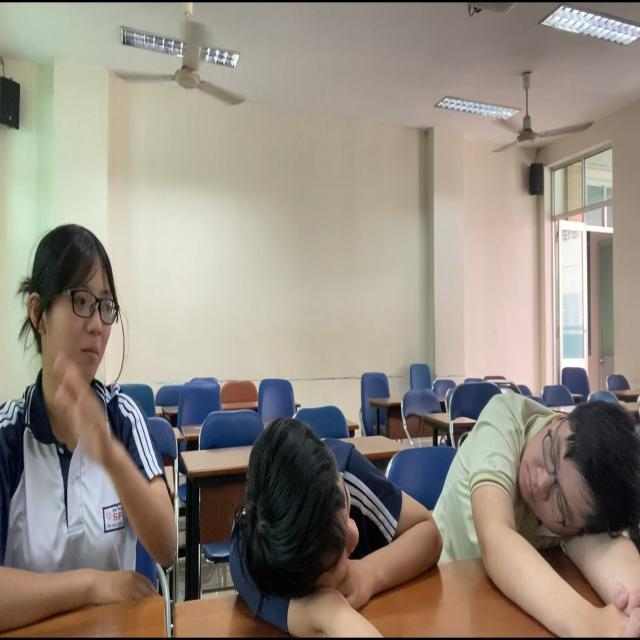sleep: (209, 400, 454, 630), (430, 359, 640, 623)
